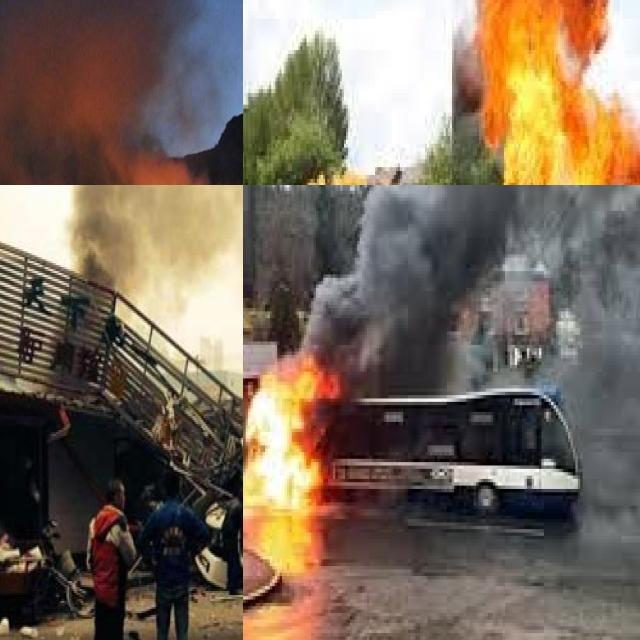fire: (473, 0, 640, 185), (243, 354, 350, 522)
smoke: (301, 185, 640, 512), (0, 0, 243, 185), (65, 185, 243, 291)
